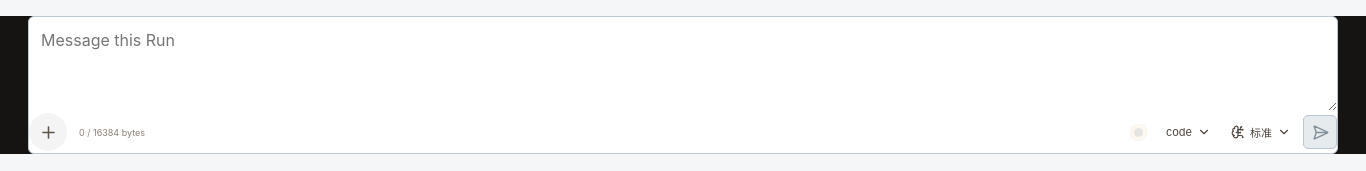
Scenario: SessionComposer › reuses an in-memory operation key after uncertain failure and clears on success
The width and height of the screenshot is (1366, 171).
Type "Review the latest diff" into the text box named "Session message". click: (683, 64)
box: [29,17,1337,111]
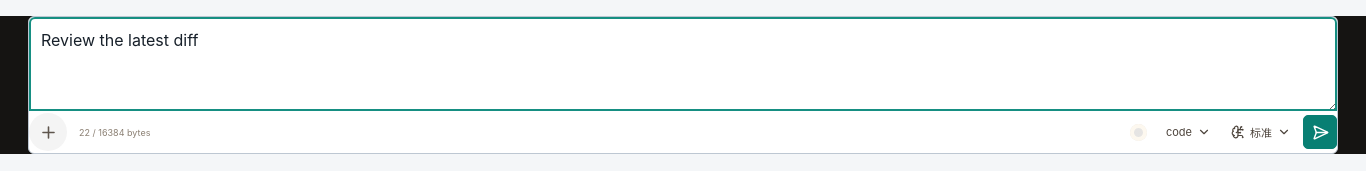
Click the button named "Queue message". click: (1320, 132)
box: [1303,115,1337,149]
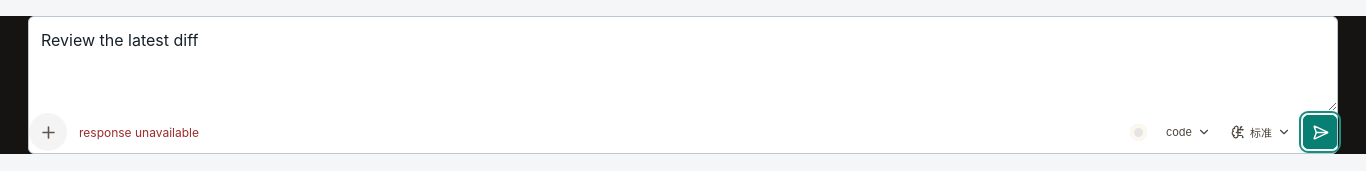
Check: the text "response unavailable" is shown, box [79,124,199,140]
Click the button named "Queue message". click: (1320, 132)
box: [1303,115,1337,149]
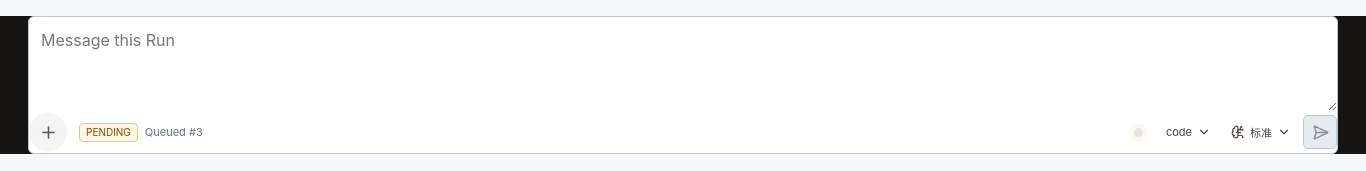
Check: the text "Queued #3" is shown, box [145,125,203,139]
Check: the text box named "Session message" is empty, box [29,17,1337,111]
